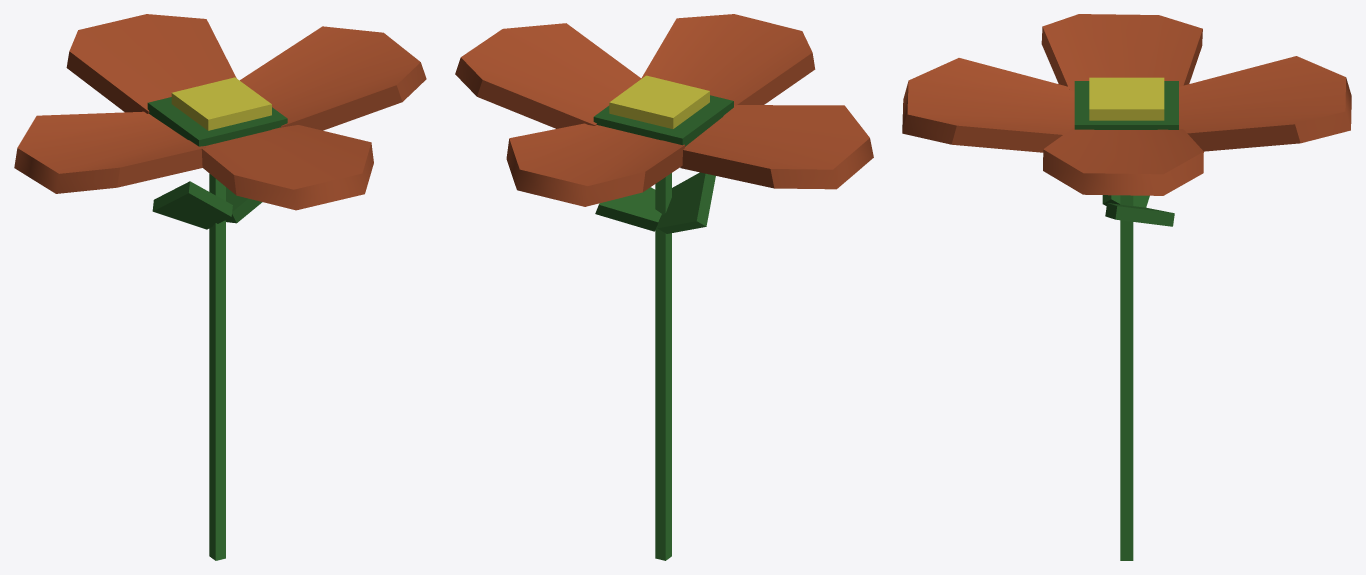
Rendered from Flower02.fbx.
3 views of the same model, side by side, from view 1: azimuth 30°, elevation 25°; view 2: azimuth 150°, elevation 25°; view 3: azimuth 270°, elevation 25° (orthographic).
Parts seen in each view (by area): view 1: OrangeFlower; view 2: OrangeFlower; view 3: OrangeFlower.
Boxes of the visible parts, x1,y1,x2,y2 form: OrangeFlower: [14, 14, 426, 560]; OrangeFlower: [455, 14, 873, 560]; OrangeFlower: [902, 14, 1351, 560].
Bounding box in the file's own units: 0.1554 × 0.1841 × 0.157.
